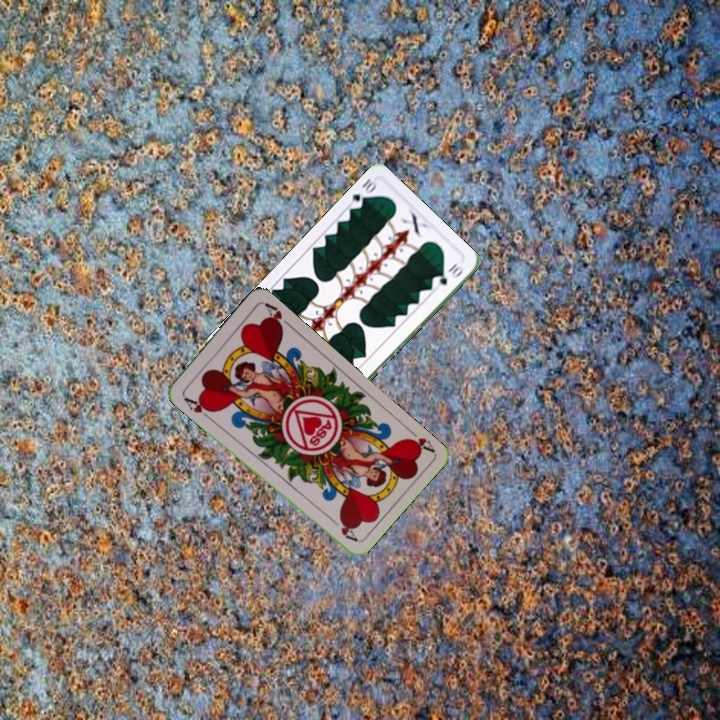G10: (345, 174, 380, 212)
HA: (179, 391, 215, 422), (402, 423, 436, 455)
